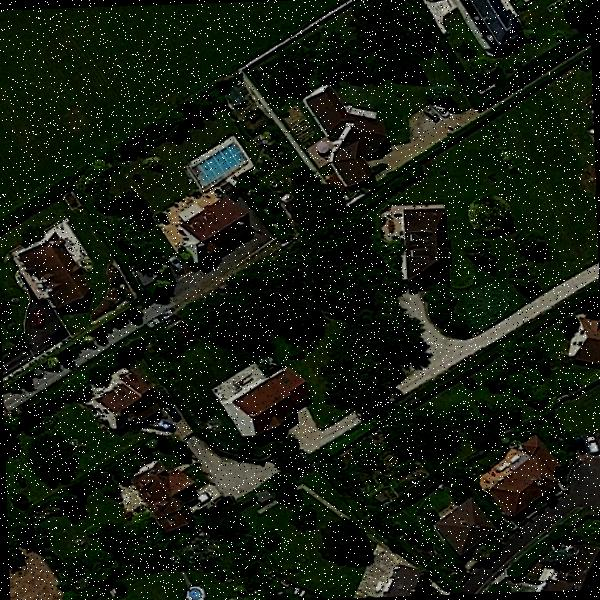Buildings: (308, 92, 379, 174), (234, 366, 313, 433), (20, 231, 86, 306), (482, 441, 557, 501), (402, 206, 453, 282), (141, 460, 195, 530), (530, 539, 600, 592), (180, 206, 246, 256), (100, 372, 160, 427), (465, 0, 522, 48), (436, 507, 496, 552), (375, 560, 430, 598), (567, 315, 600, 363)
